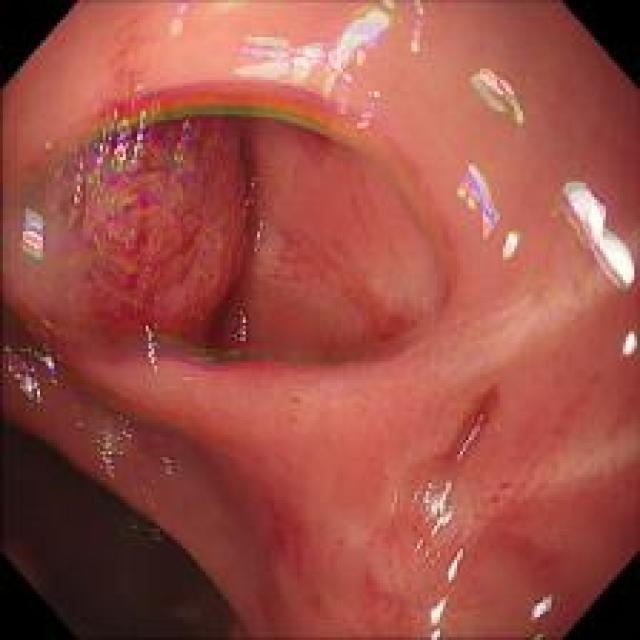color misalignment: (51, 82, 450, 249), (235, 5, 430, 141), (562, 180, 634, 301), (458, 161, 514, 251), (389, 481, 450, 560), (0, 330, 62, 406), (11, 198, 68, 266), (466, 64, 528, 125), (428, 545, 466, 636), (101, 412, 146, 478), (226, 302, 265, 356), (129, 310, 170, 361), (162, 5, 189, 34), (162, 439, 182, 471), (138, 482, 161, 506), (534, 589, 554, 616), (149, 528, 165, 544), (125, 518, 136, 532)
contrast: (4, 415, 248, 626)
specularity: (565, 181, 634, 289), (391, 485, 449, 551), (450, 408, 498, 486), (616, 325, 638, 365), (428, 600, 448, 638), (444, 546, 462, 580), (504, 225, 519, 256), (532, 596, 551, 619), (171, 2, 190, 15)
